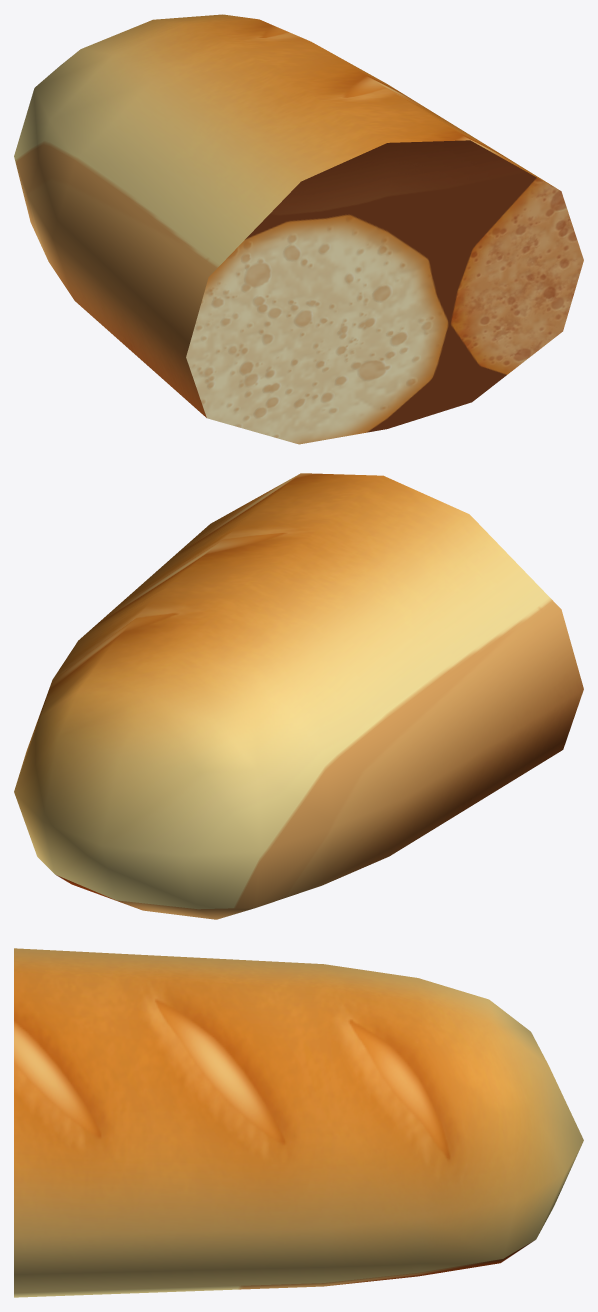
Rendered from French_02_Half.fbx.
3 renders of one model, top to bottom at view 1: azimuth 30°, elevation 25°; view 2: azimuth 150°, elevation 25°; view 3: azimuth 270°, elevation 25°, orthographic.
Parts seen in each view (by area): view 1: French_02_Half; view 2: French_02_Half; view 3: French_02_Half.
Boxes of the visible parts, x1,y1,x2,y2 form: French_02_Half: (14,14,583,444); French_02_Half: (14,473,583,919); French_02_Half: (14,948,583,1297).
Size of the model in its own units: 39.85 by 27.39 by 48.95.
